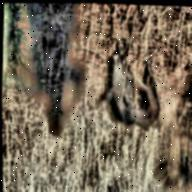boar: (85, 44, 192, 153)
